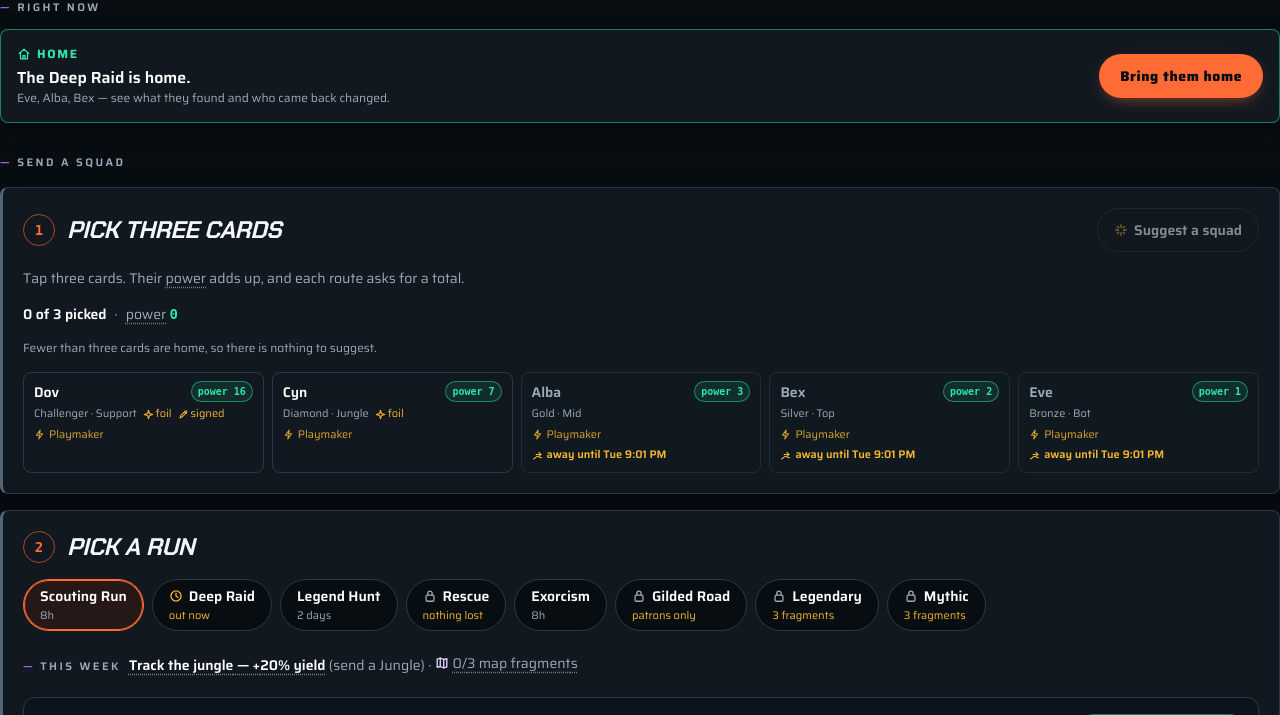
Test: ExpeditionBoard — the claim ceremony › banks the payout and names the card the mark landed on
Click the button with aria-label "Claim the Deep Raid" at (1181, 76), box 1099,54 -> 1263,98
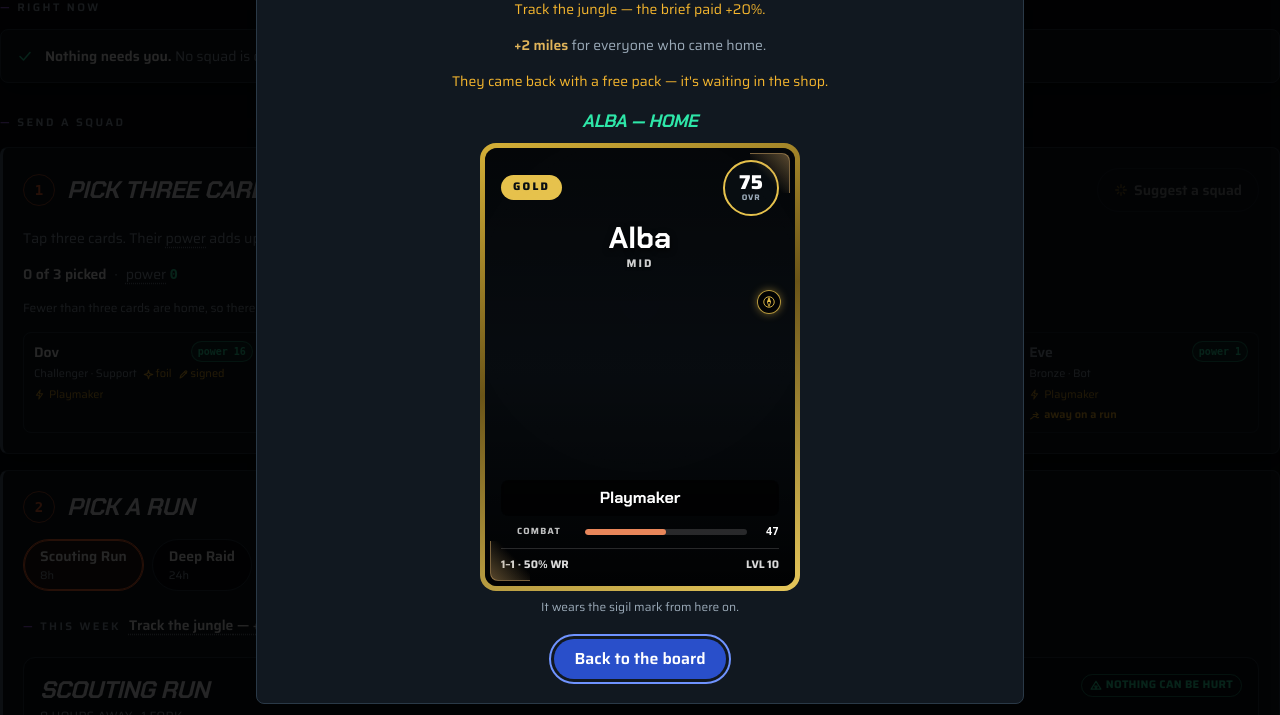
Now the text "Alba — Home" is shown, box 582,106 -> 698,134
Now the text "It wears the sigil mark from here on." is shown, box 541,598 -> 739,614
Now the picture named "Expedition mark — Sigil" is shown, box 757,290 -> 781,314
